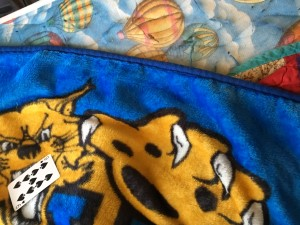NineOfSpades: (7, 152, 62, 211)
